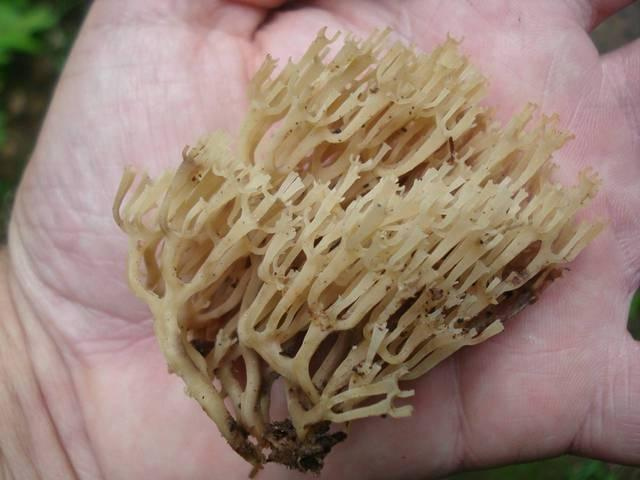edible_mushroom: (109, 23, 609, 475)
